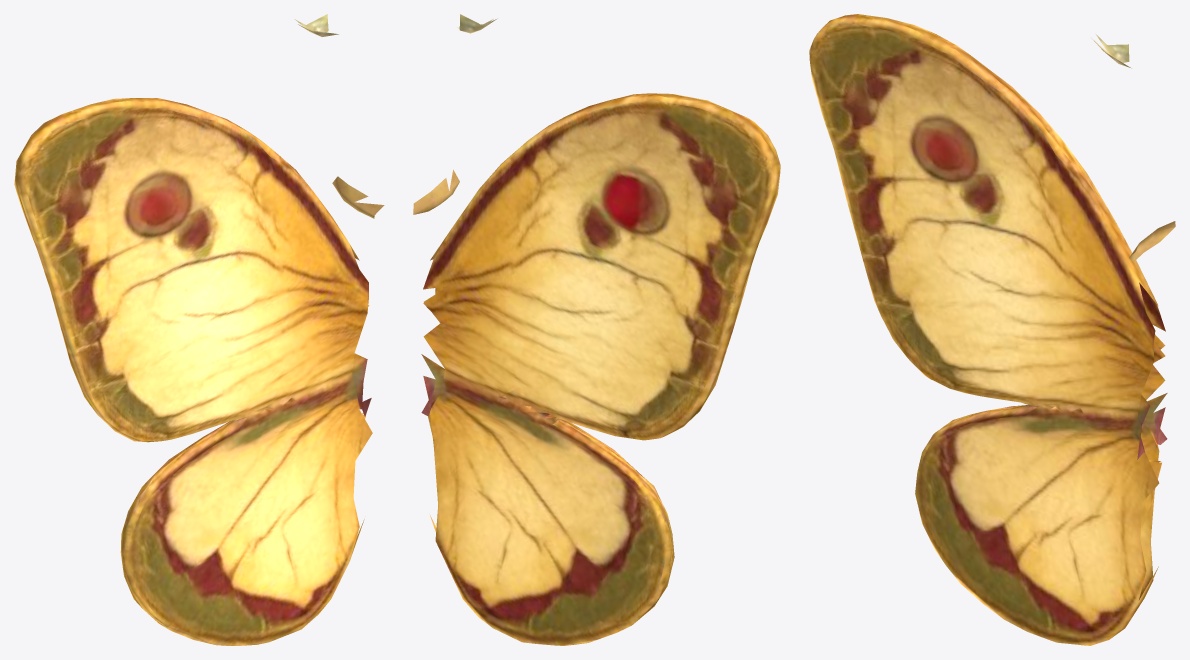
The model's file is wickling-left.glb.
The picture shows the model from 3 angles, left to right: view 1: azimuth 30°, elevation 25°; view 2: azimuth 150°, elevation 25°; view 3: azimuth 330°, elevation 25°; orthographic projection.
Parts seen in each view (by area): view 1: Mesh_0.001; view 2: Mesh_0.001; view 3: Mesh_0.001.
Part boxes in pixels (x1=…): Mesh_0.001: x1=14, y1=14, x2=384, y2=645; Mesh_0.001: x1=413, y1=14, x2=780, y2=645; Mesh_0.001: x1=809, y1=14, x2=1175, y2=645.
Bounding box in the file's own units: 0.6023 × 0.9994 × 0.1358.
1 material, 1 textured.
